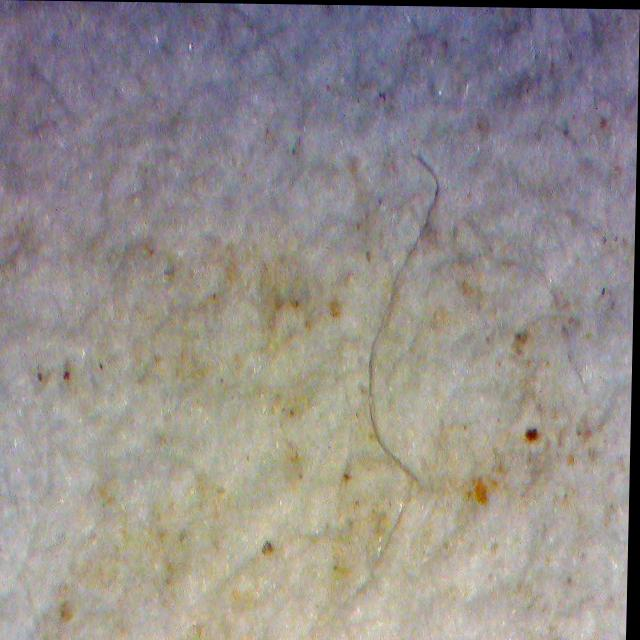microplastic: (366, 149, 441, 485)
